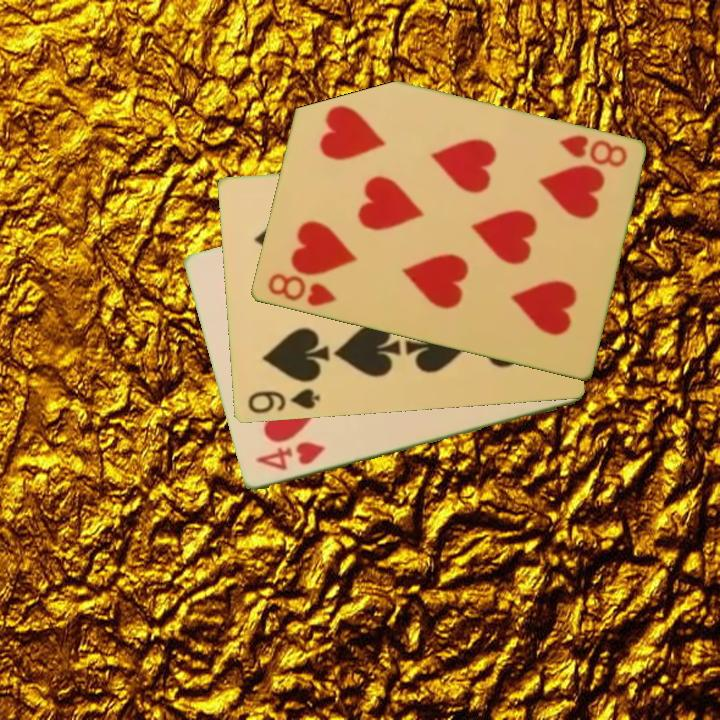4h: (252, 438, 328, 474)
8h: (263, 270, 340, 310), (554, 132, 630, 171)
9s: (244, 385, 323, 417)
